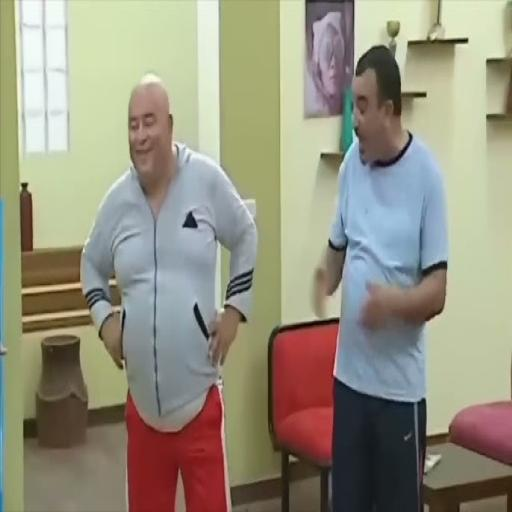sboui: (128, 73, 177, 188)
slimane: (352, 46, 411, 167)
